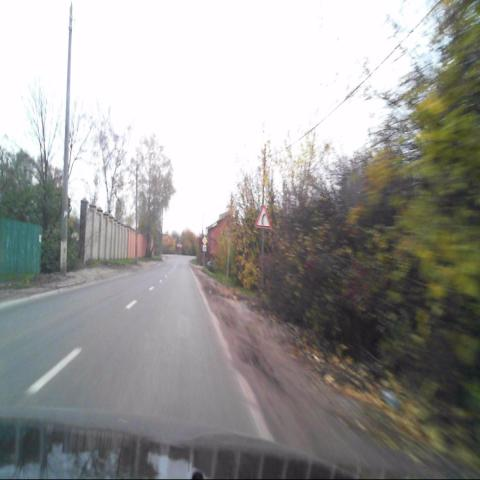1_11: (255, 204, 272, 229)
